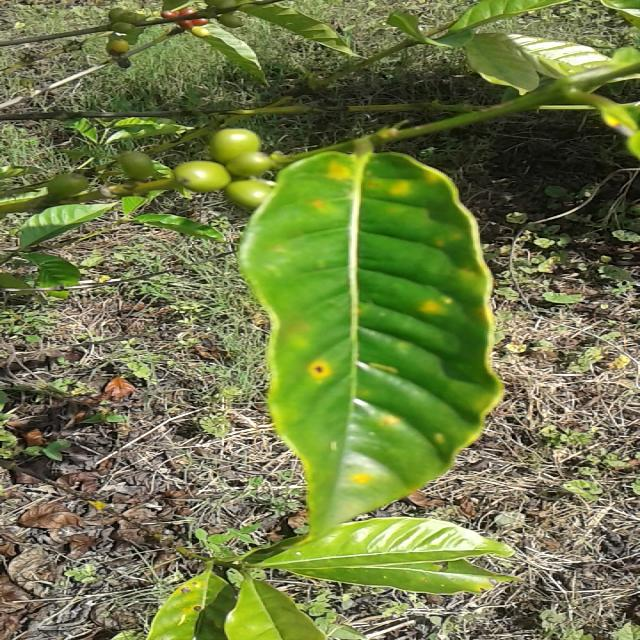Enfermedad-Roya: (238, 150, 504, 545)
